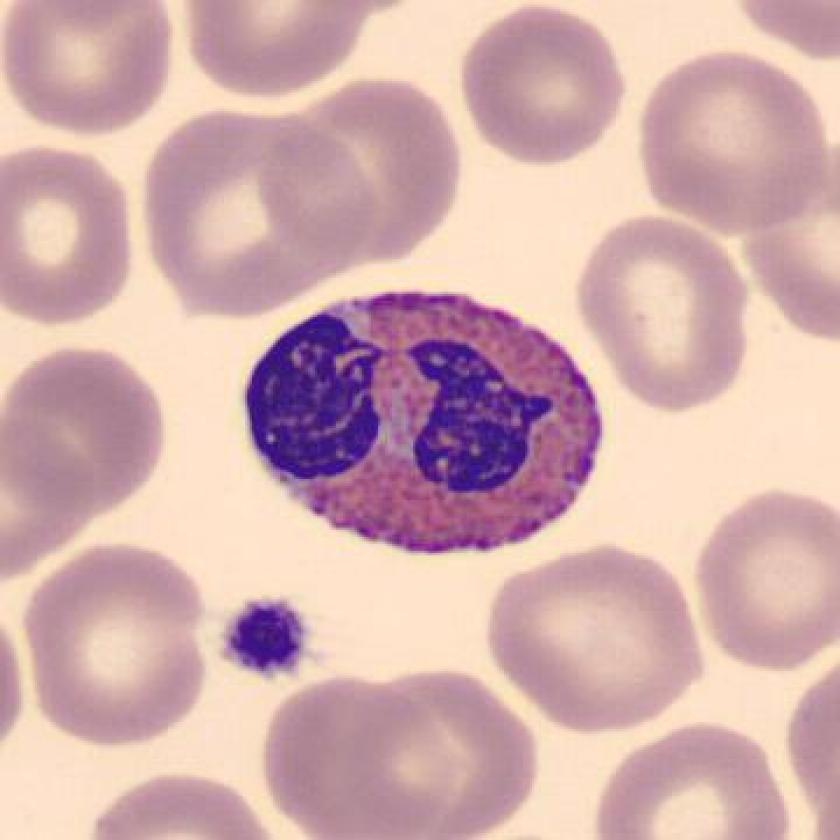eosinophil: (230, 269, 624, 575)
